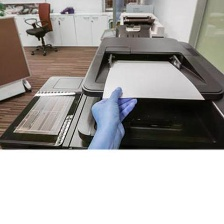book: (103, 54, 207, 103)
